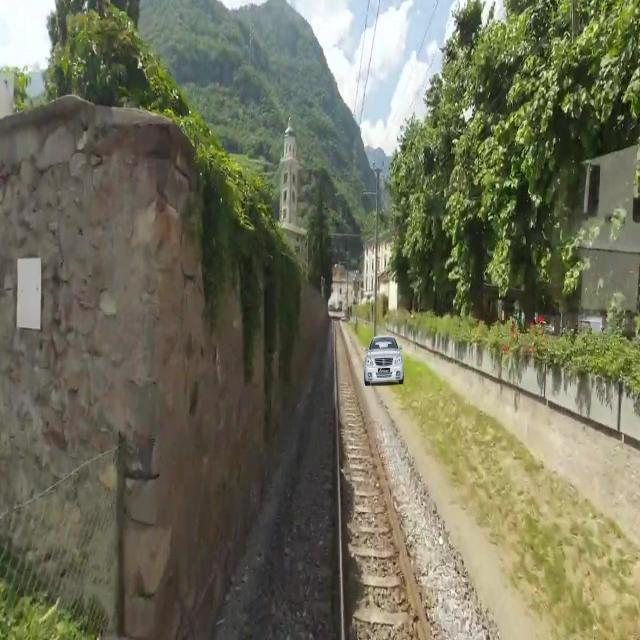rail: (306, 316, 456, 638)
